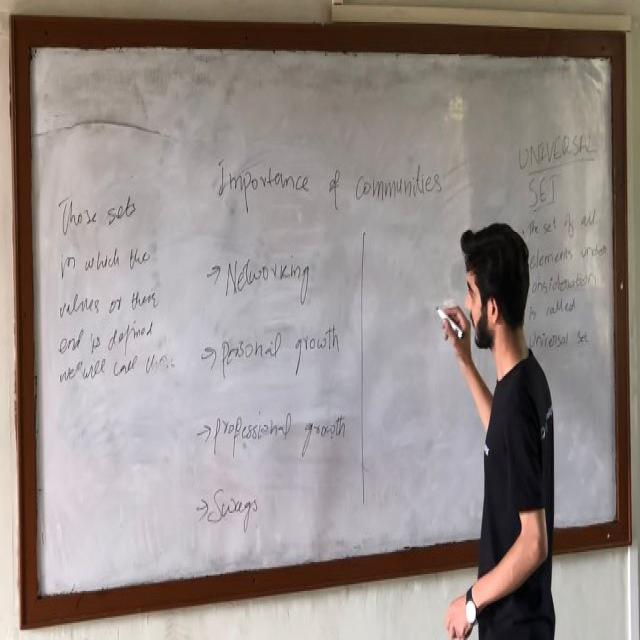Instructor: (445, 218, 557, 640)
White-board: (21, 26, 626, 607)
